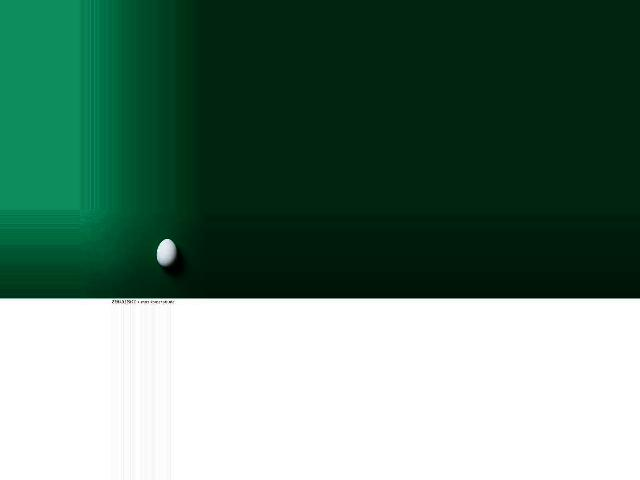egg: (155, 239, 176, 268)
